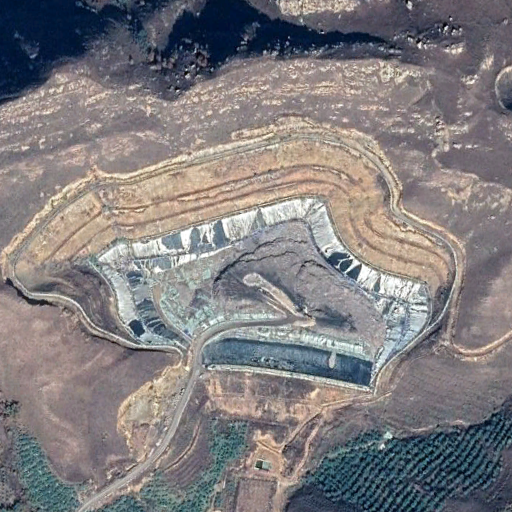lf: (96, 199, 431, 392)
